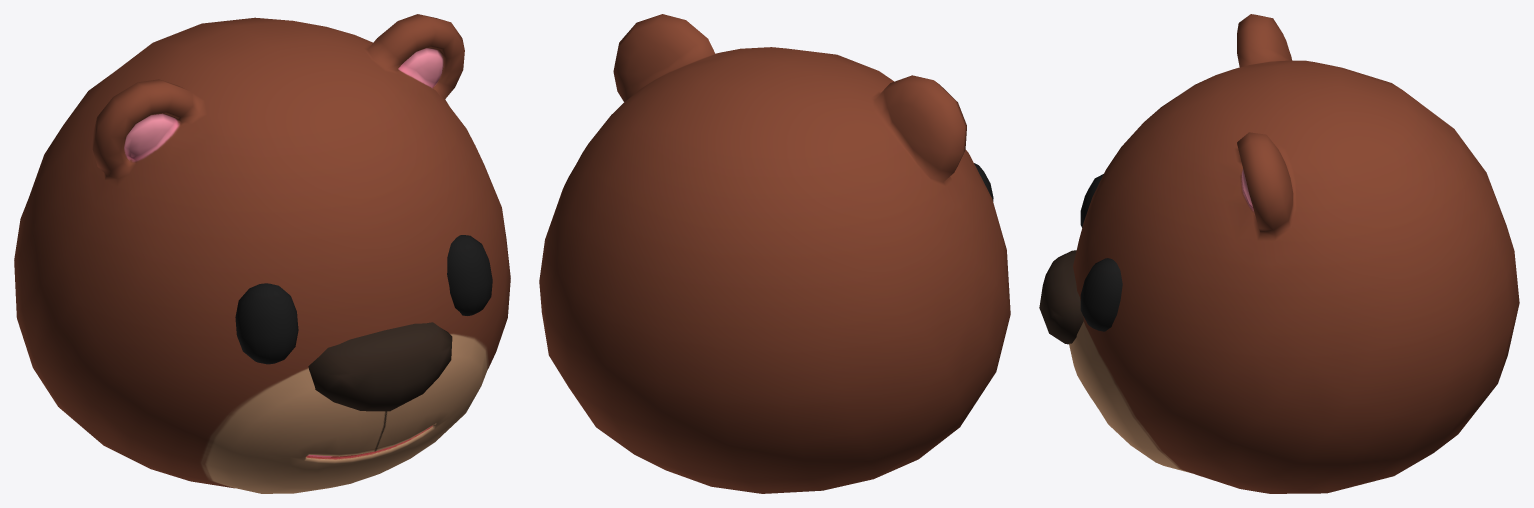
The model's file is BearHead.FBX.
3 renders of one model, left to right at view 1: azimuth 30°, elevation 25°; view 2: azimuth 150°, elevation 25°; view 3: azimuth 270°, elevation 25°, orthographic. The views are drawn at different scales.
Visible parts, largest first — view 1: BearHead; view 2: BearHead; view 3: BearHead.
Part boxes in pixels (x1=…): BearHead: x1=14, y1=14, x2=510, y2=493; BearHead: x1=539, y1=14, x2=1010, y2=493; BearHead: x1=1039, y1=14, x2=1519, y2=493.
Size of the model in its own units: 42.37 by 39.43 by 44.42.
4 materials, 4 textured.
